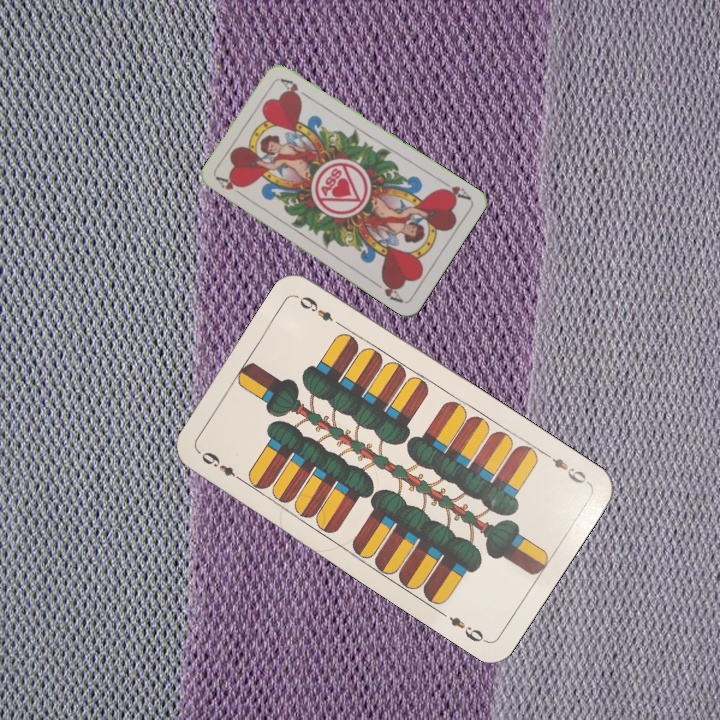E9: (540, 448, 592, 486), (197, 447, 247, 485)
HA: (213, 173, 249, 201), (436, 176, 473, 202)
